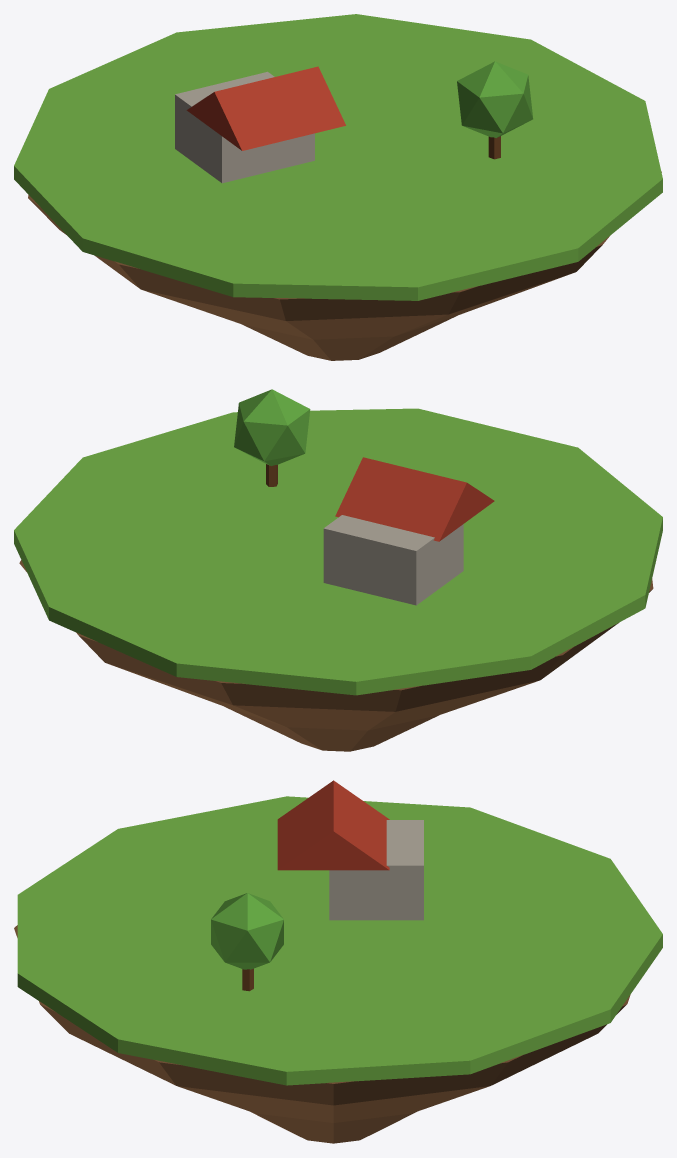
File: sky_island_large.glb
3 renders of one model, top to bottom at view 1: azimuth 30°, elevation 25°; view 2: azimuth 150°, elevation 25°; view 3: azimuth 270°, elevation 25°, orthographic.
Visible parts, largest first — view 1: island_large; view 2: island_large; view 3: island_large.
Part boxes in pixels (x1,y1,x2,y2): island_large: (14, 14, 662, 360); island_large: (14, 389, 662, 751); island_large: (14, 780, 662, 1143).
Size of the model in its own units: 15.14 by 7.3 by 15.07.
